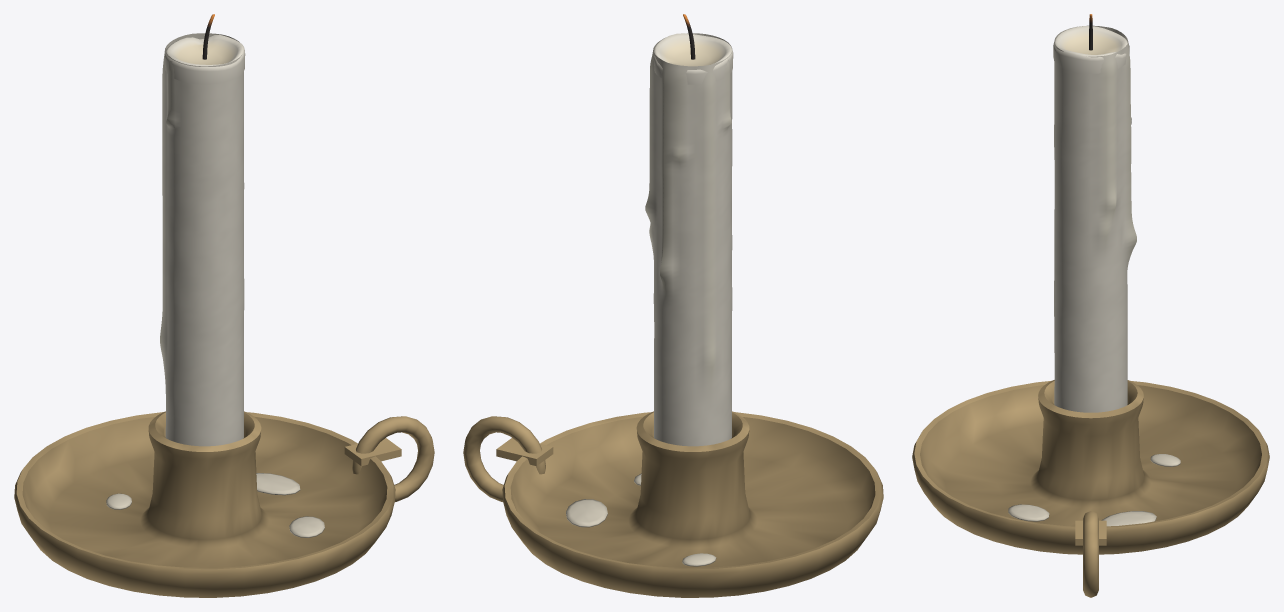
Rendered from candle.glb.
The picture shows the model from 3 angles, left to right: view 1: azimuth 30°, elevation 25°; view 2: azimuth 150°, elevation 25°; view 3: azimuth 270°, elevation 25°; orthographic projection. The views are drawn at different scales.
Visible parts, largest first — view 1: Holder, Wax, Cap, Spill; view 2: Holder, Wax, Cap, Spill; view 3: Holder, Wax, Cap, Spill.
Part boxes in pixels (bbox=[...]): Holder: bbox=[14, 411, 434, 597]; Wax: bbox=[160, 33, 244, 446]; Cap: bbox=[164, 35, 245, 84]; Spill: bbox=[106, 473, 324, 537]; Holder: bbox=[463, 411, 883, 597]; Wax: bbox=[645, 33, 732, 446]; Cap: bbox=[653, 33, 733, 84]; Spill: bbox=[566, 473, 716, 566]; Holder: bbox=[912, 380, 1269, 597]; Wax: bbox=[1054, 25, 1136, 412]; Cap: bbox=[1053, 26, 1127, 73]; Spill: bbox=[1008, 454, 1180, 526].
Size of the model in its own units: 0.1371 by 0.1767 by 0.115.
